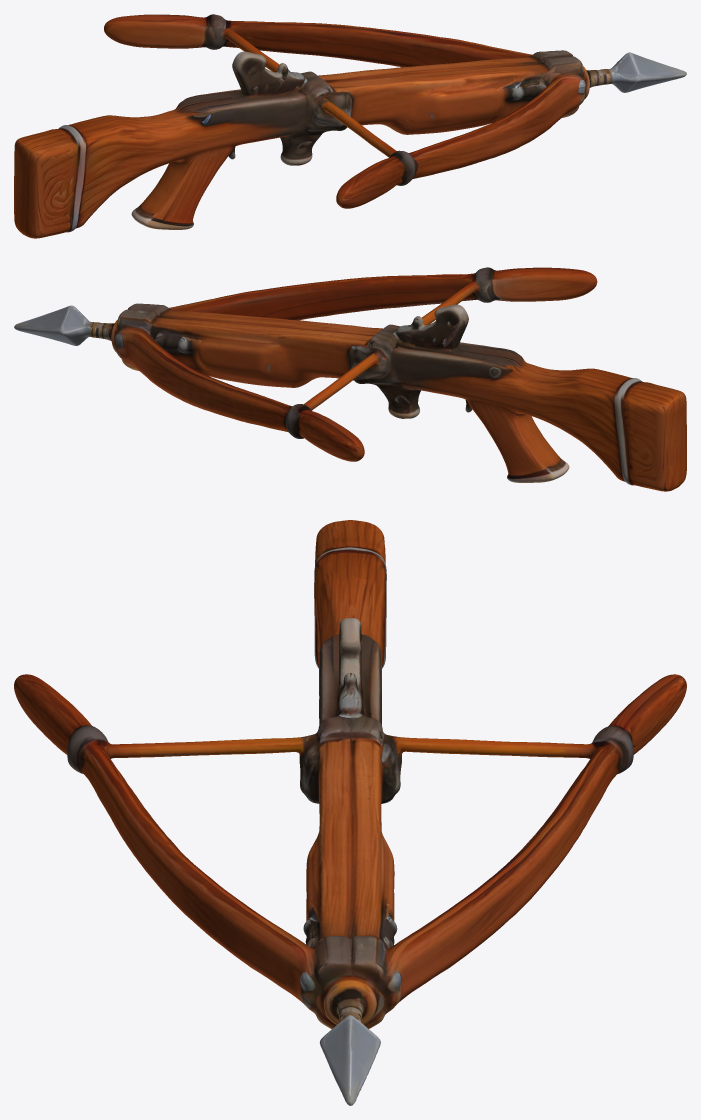
Rendered from crossbow.glb.
The picture shows the model from 3 angles, top to bottom: view 1: azimuth 30°, elevation 25°; view 2: azimuth 150°, elevation 25°; view 3: azimuth 270°, elevation 25°; orthographic projection. The views are drawn at different scales.
Parts seen in each view (by area): view 1: tripo_node_63597371-7a2f-428c-a4bc-5d7e2796a343; view 2: tripo_node_63597371-7a2f-428c-a4bc-5d7e2796a343; view 3: tripo_node_63597371-7a2f-428c-a4bc-5d7e2796a343.
Part boxes in pixels (left/top/right/bottom): tripo_node_63597371-7a2f-428c-a4bc-5d7e2796a343: left=14, top=14, right=686, bottom=238; tripo_node_63597371-7a2f-428c-a4bc-5d7e2796a343: left=14, top=267, right=686, bottom=491; tripo_node_63597371-7a2f-428c-a4bc-5d7e2796a343: left=14, top=520, right=686, bottom=1105.
Size of the model in its own units: 0.9479 by 0.2131 by 0.5885.
1 material, 1 textured.
